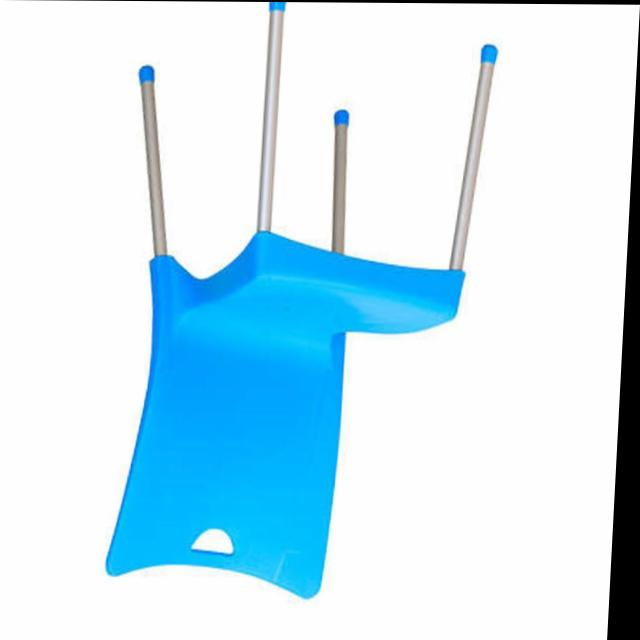Chair: (110, 1, 501, 603)
